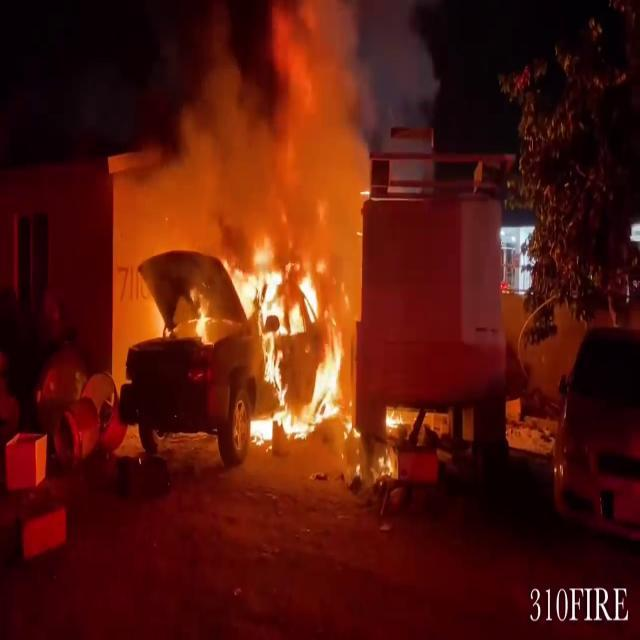Fire: (228, 234, 346, 448)
Smoke: (123, 0, 394, 237)
